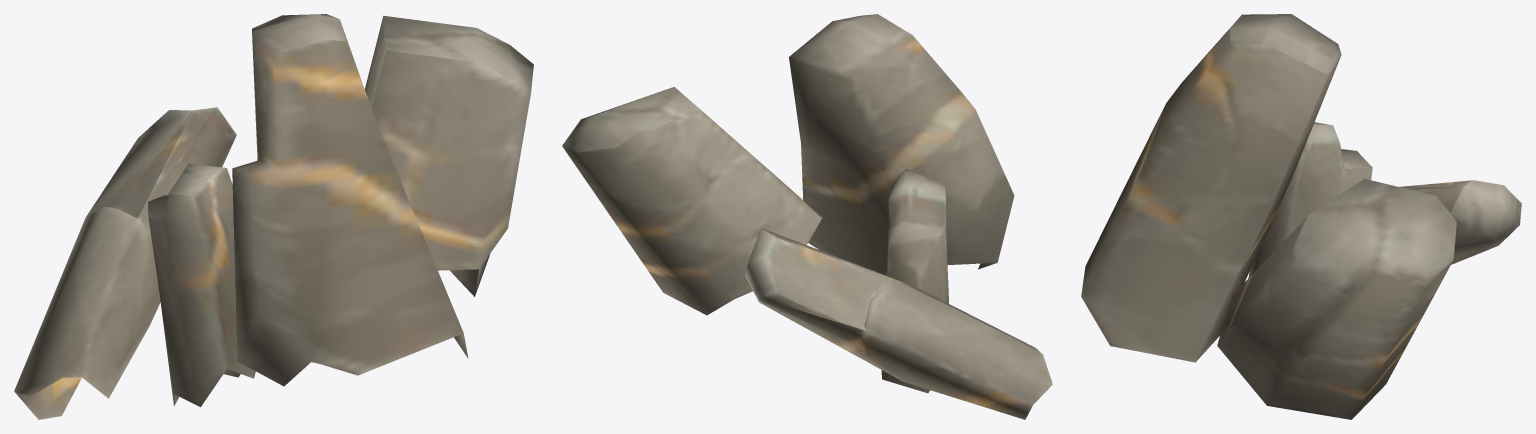
File: h5_shitouzhu_a.FBX
3 views of the same model, side by side, from view 1: azimuth 30°, elevation 25°; view 2: azimuth 150°, elevation 25°; view 3: azimuth 270°, elevation 25° (orthographic). The views are drawn at different scales.
Visible parts, largest first — view 1: h5_shitouzhu_a; view 2: h5_shitouzhu_a; view 3: h5_shitouzhu_a.
Part boxes in pixels (left/top/right/bottom): h5_shitouzhu_a: left=14, top=14, right=533, bottom=419; h5_shitouzhu_a: left=562, top=14, right=1052, bottom=419; h5_shitouzhu_a: left=1081, top=14, right=1521, bottom=419.
Bounding box in the file's own units: 7.9 × 5.51 × 6.03.
